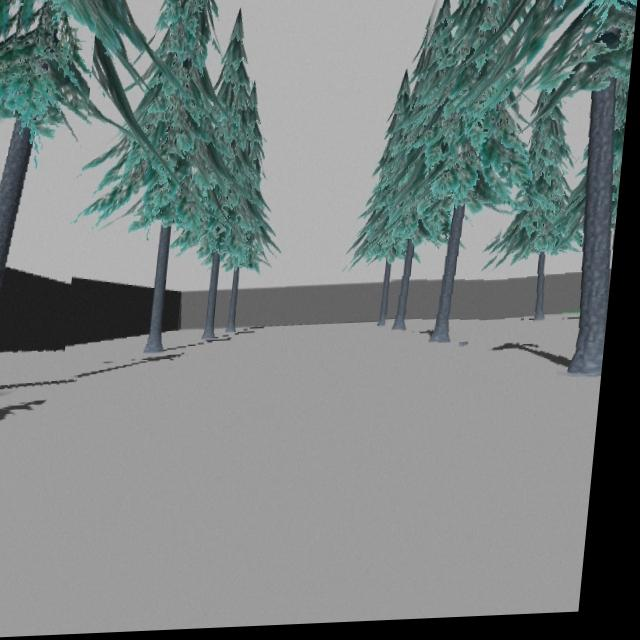tree: (472, 0, 629, 381), (82, 0, 242, 355), (0, 0, 151, 323), (409, 0, 521, 346)
